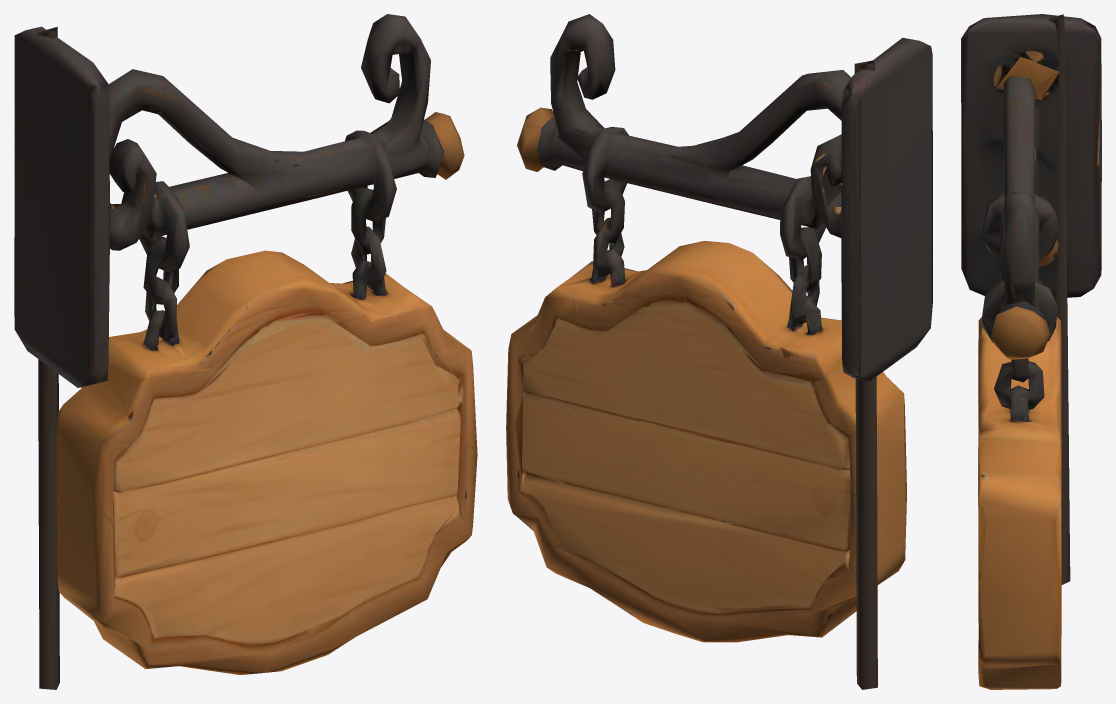
3 renders of one model, left to right at view 1: azimuth 30°, elevation 25°; view 2: azimuth 150°, elevation 25°; view 3: azimuth 270°, elevation 25°, orthographic. The views are drawn at different scales.
Visible parts, largest first — view 1: plate-iron; view 2: plate-iron; view 3: plate-iron.
Boxes of the visible parts, left/top/right/bottom form: plate-iron: left=14, top=14, right=477, bottom=689; plate-iron: left=506, top=14, right=932, bottom=689; plate-iron: left=961, top=14, right=1101, bottom=689.
Size of the model in its own units: 1.41 by 2.2 by 0.4993.
Materials: 2 (1 with a texture image).
